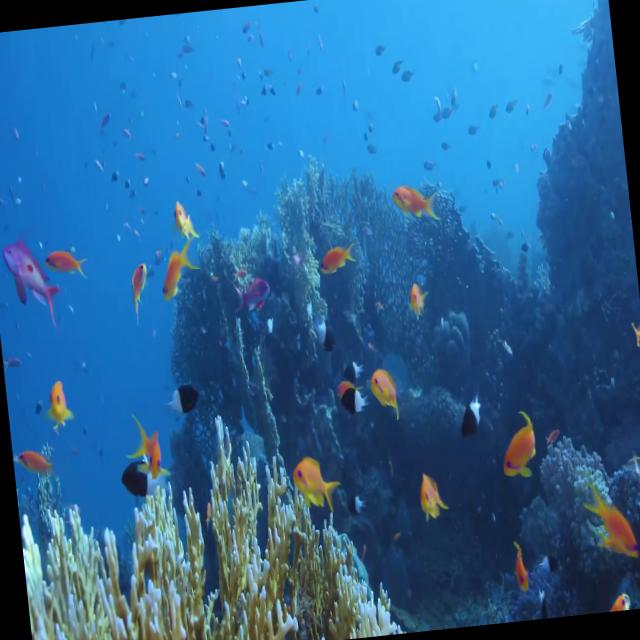fish: (0, 231, 62, 324), (585, 475, 640, 558), (289, 451, 337, 517), (496, 408, 540, 478), (157, 240, 199, 302), (390, 176, 440, 228), (128, 414, 164, 480), (162, 382, 204, 424), (366, 364, 399, 413), (44, 247, 89, 281), (317, 241, 358, 275)
